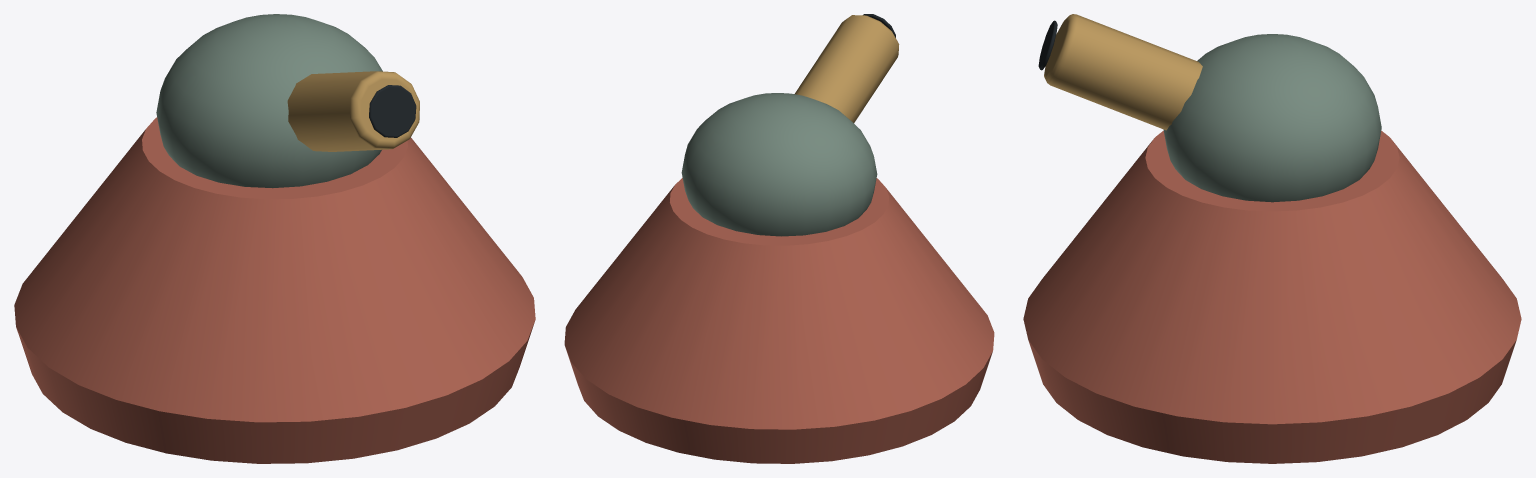
3 views of the same model, side by side, from view 1: azimuth 30°, elevation 25°; view 2: azimuth 150°, elevation 25°; view 3: azimuth 270°, elevation 25° (orthographic). The views are drawn at different scales.
Parts seen in each view (by area): view 1: Turret armoured pedestal, Weapon pivot, Weapon barrel, Weapon dark bore; view 2: Turret armoured pedestal, Weapon pivot, Weapon barrel; view 3: Turret armoured pedestal, Weapon pivot, Weapon barrel.
Part boxes in pixels (<box>): Turret armoured pedestal: <box>14,117,535,463</box>; Weapon pivot: <box>156,14,382,188</box>; Weapon barrel: <box>287,71,419,151</box>; Weapon dark bore: <box>369,85,416,137</box>; Turret armoured pedestal: <box>564,178,994,463</box>; Weapon pivot: <box>681,93,877,236</box>; Weapon barrel: <box>794,15,899,122</box>; Turret armoured pedestal: <box>1023,131,1521,463</box>; Weapon pivot: <box>1163,34,1381,202</box>; Weapon barrel: <box>1044,14,1202,130</box>.
Size of the model in its own units: 1.96 by 1.51 by 1.96.
